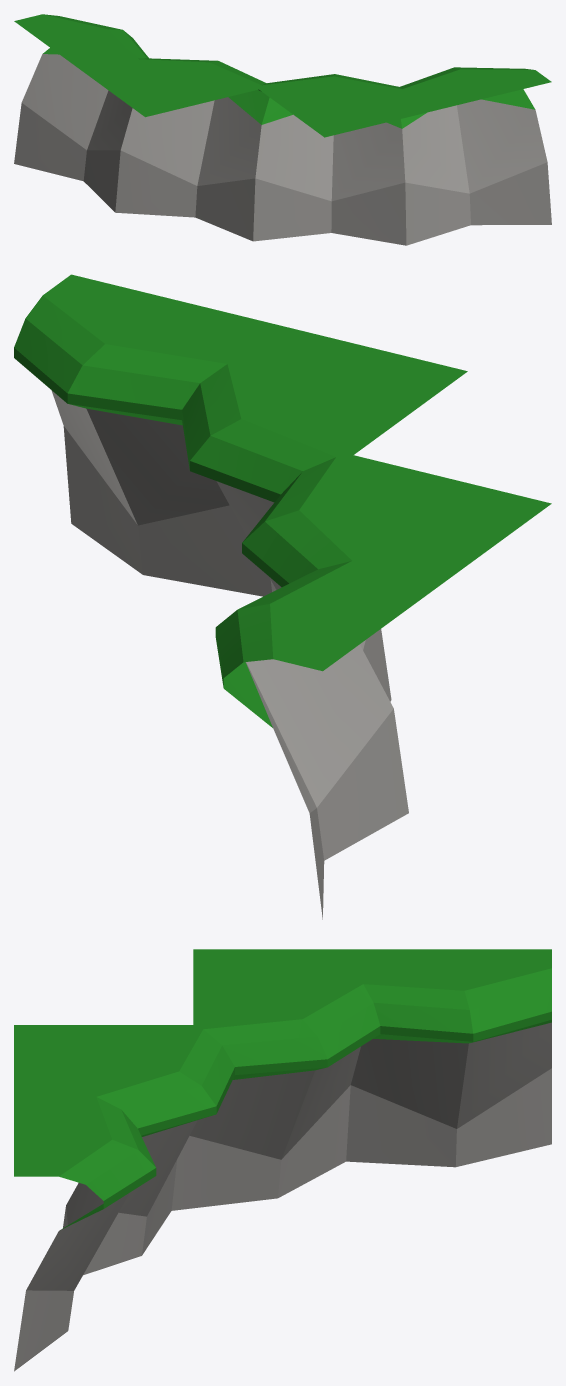
File: Cliff_Terrain_Corner_Inner_3x3_Top.fbx
3 renders of one model, top to bottom at view 1: azimuth 30°, elevation 25°; view 2: azimuth 150°, elevation 25°; view 3: azimuth 270°, elevation 25°, orthographic. The views are drawn at different scales.
Parts seen in each view (by area): view 1: object1; view 2: object1; view 3: object1.
Part boxes in pixels (x1,y1,x2,y2): object1: [14, 14, 551, 245]; object1: [14, 274, 551, 919]; object1: [14, 949, 551, 1371].
Bounding box in the file's own units: 3 × 1.2 × 3.
